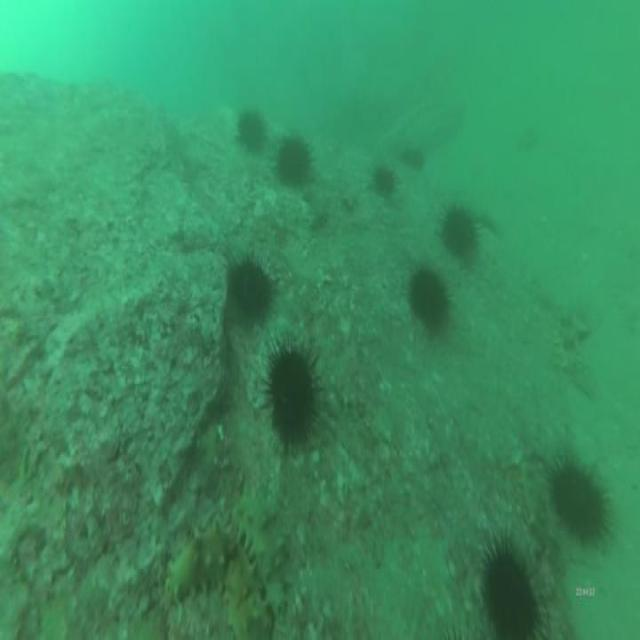echinus: (548, 452, 612, 555), (268, 336, 320, 451), (480, 545, 540, 640), (408, 256, 451, 335), (227, 256, 272, 321), (443, 199, 478, 262), (276, 133, 314, 183), (236, 107, 270, 158), (370, 160, 398, 200), (399, 142, 427, 176)
holothurian: (165, 518, 262, 640), (226, 493, 289, 618)
